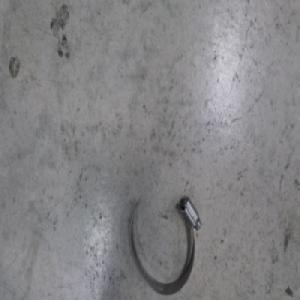AdjustableClamp: (127, 196, 201, 293)
